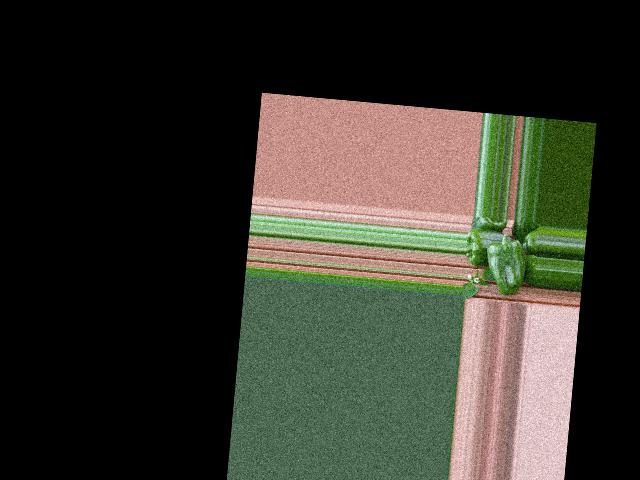bell_pepper: (520, 223, 540, 251)
